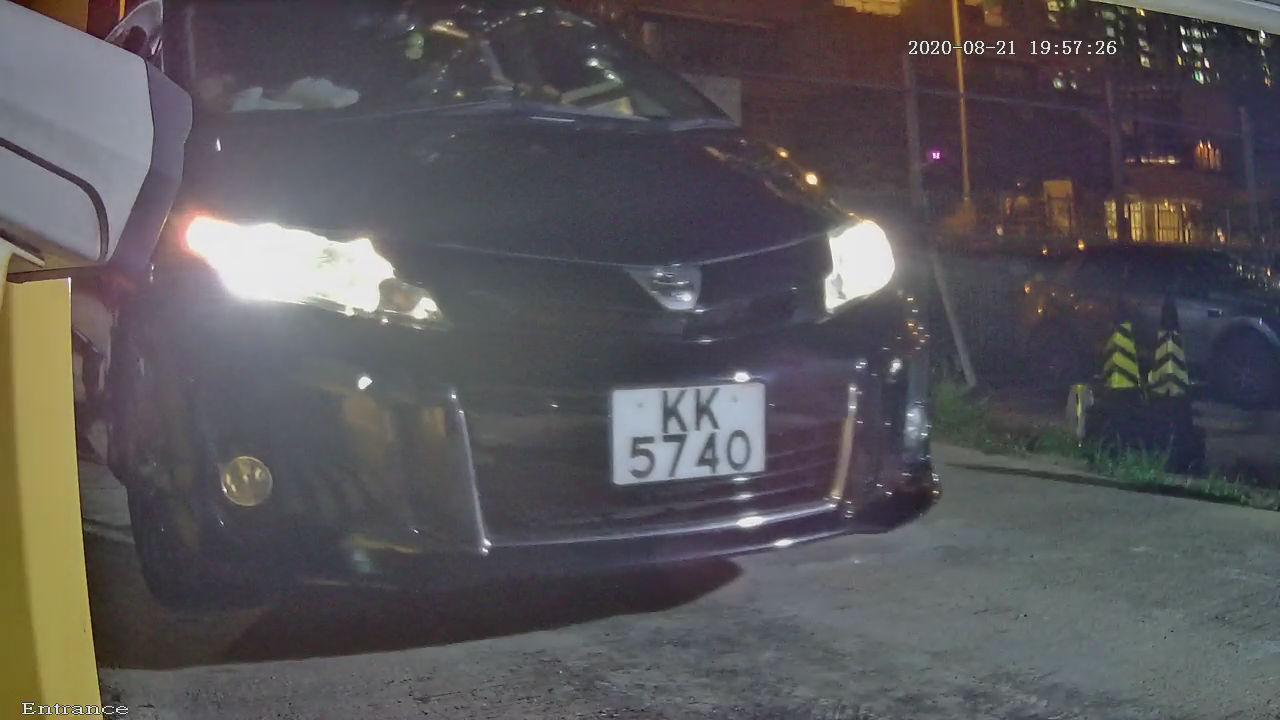Car: (56, 6, 993, 684)
License Plate: (562, 352, 797, 515)
